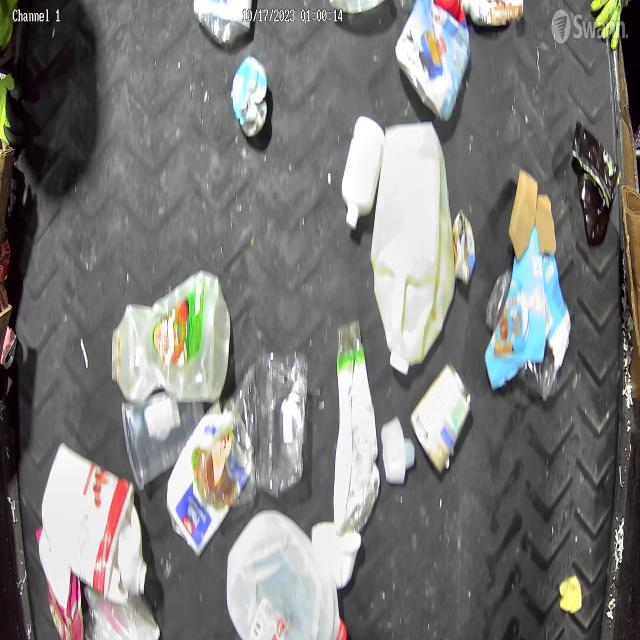can: (452, 210, 476, 284)
milk_jug: (371, 122, 455, 374), (226, 510, 348, 640)
non_white_jug: (111, 269, 232, 403), (166, 401, 252, 555), (35, 524, 84, 640)
